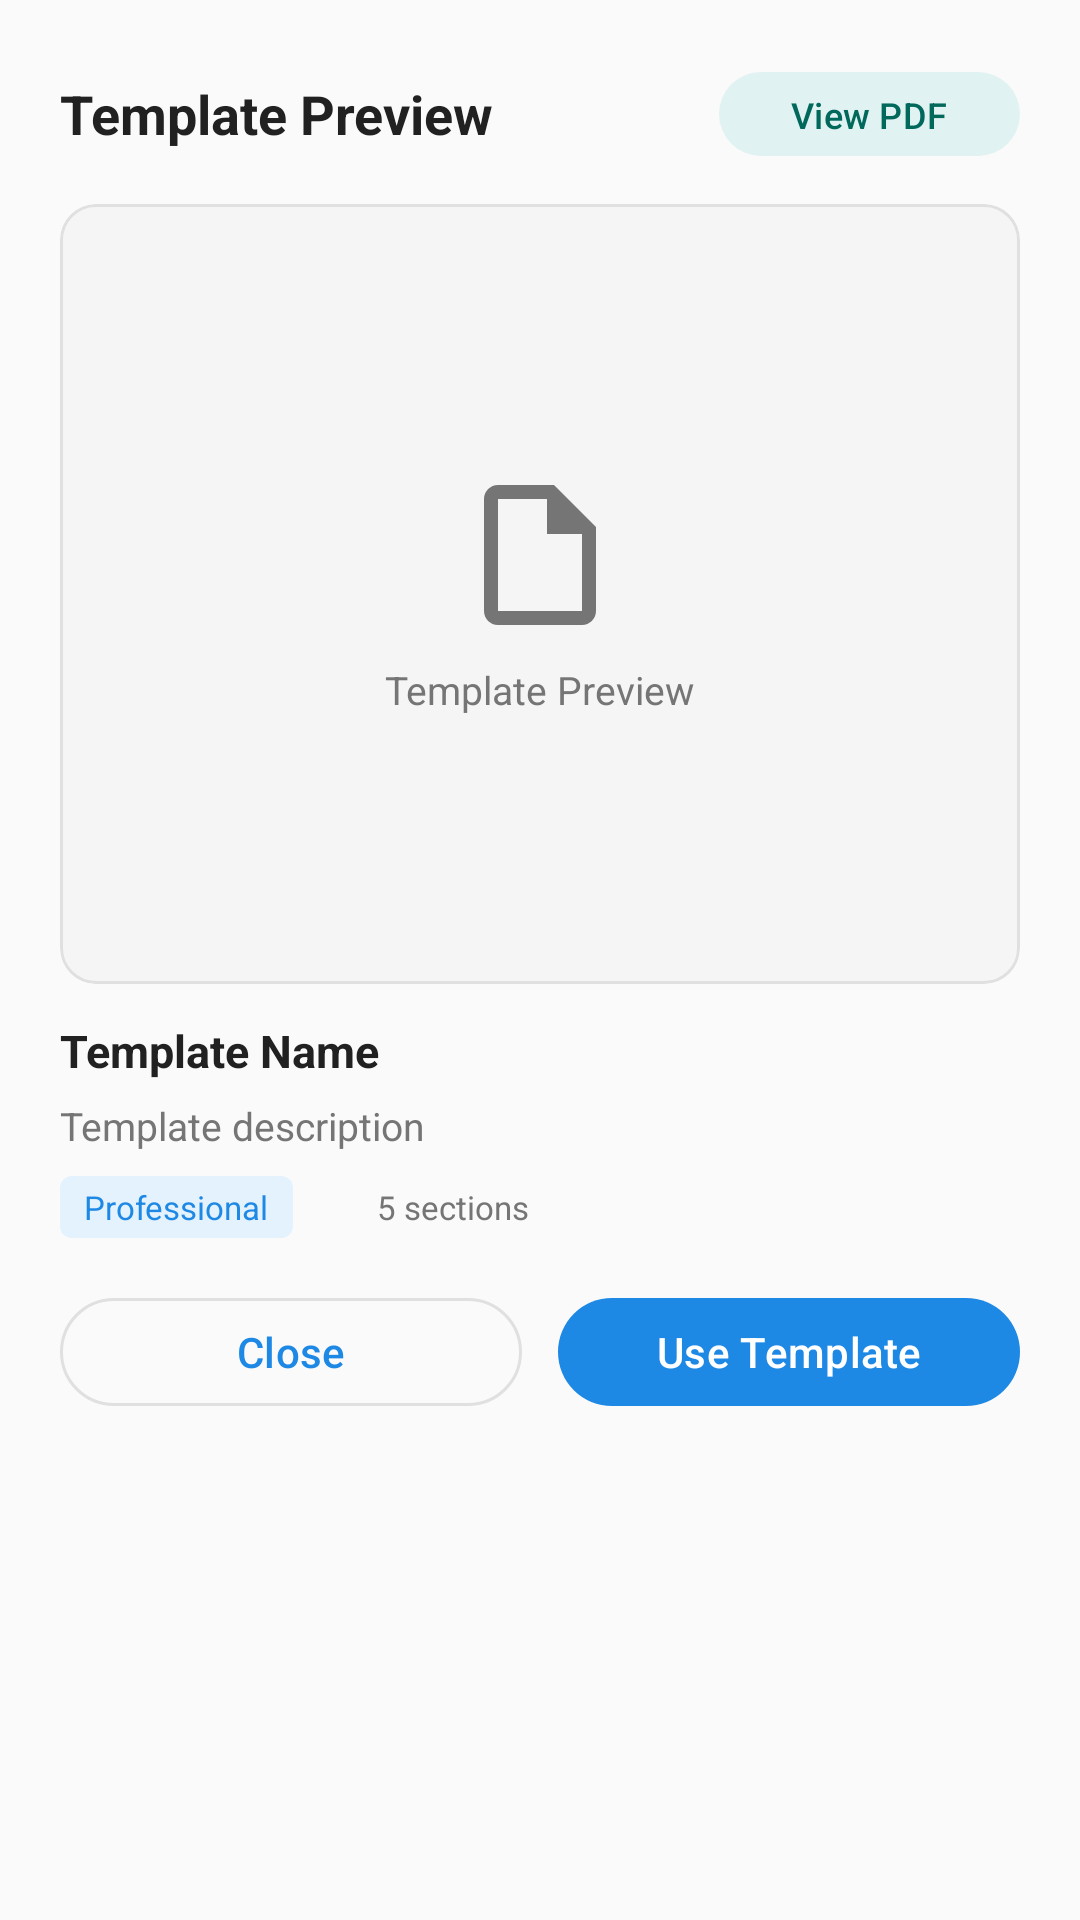

Where to tap for icons on this 1080*1920 app screen, as (x=x, y=y):
document: (x=540, y=555)
